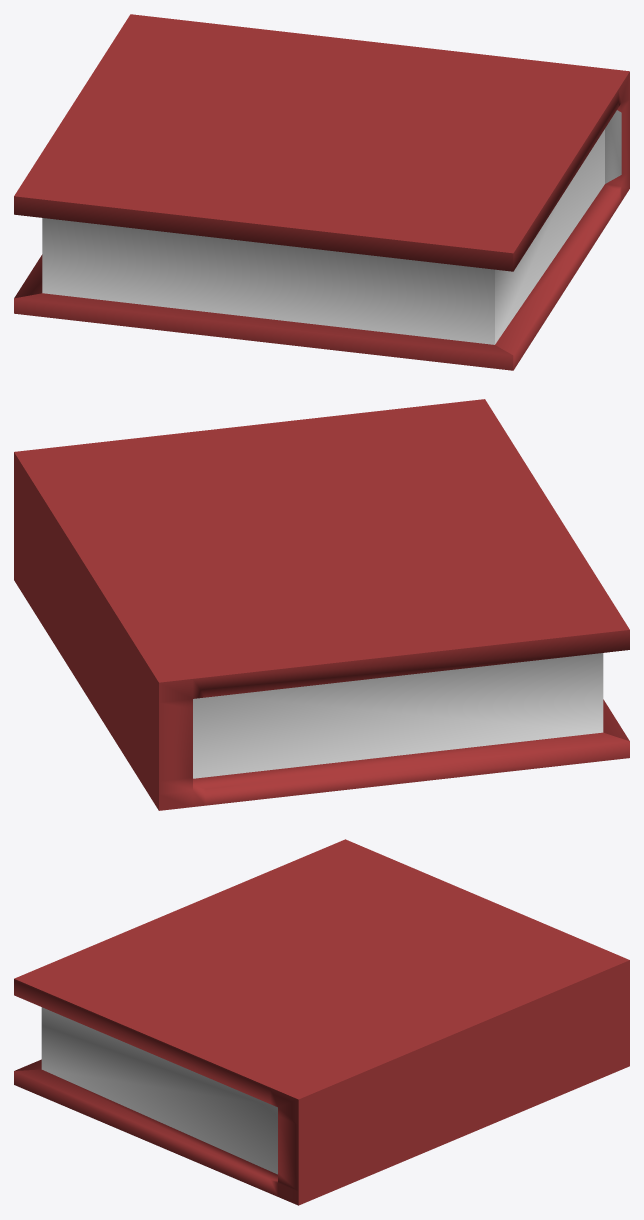
File: book.fbx
The picture shows the model from 3 angles, top to bottom: view 1: azimuth 30°, elevation 25°; view 2: azimuth 150°, elevation 25°; view 3: azimuth 270°, elevation 25°; orthographic projection. The views are drawn at different scales.
Parts seen in each view (by area): view 1: pCube1; view 2: pCube1; view 3: pCube1.
Boxes of the visible parts, x1,y1,x2,y2 form: pCube1: (14,14,629,370); pCube1: (14,399,629,810); pCube1: (14,839,629,1205).
Size of the model in its own units: 5.26 by 1 by 5.26.
